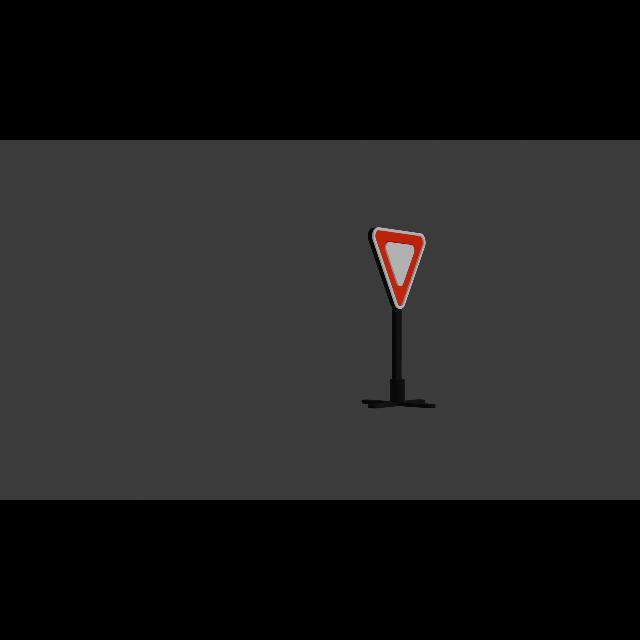sign_yield: (370, 228, 427, 311)
